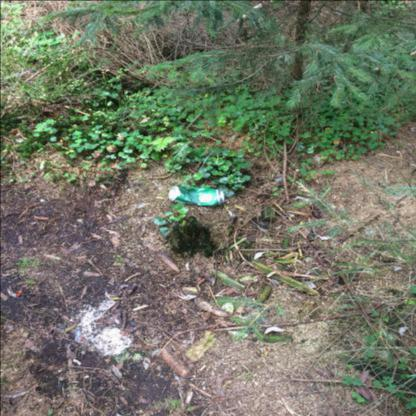Can: (168, 186, 224, 206)
